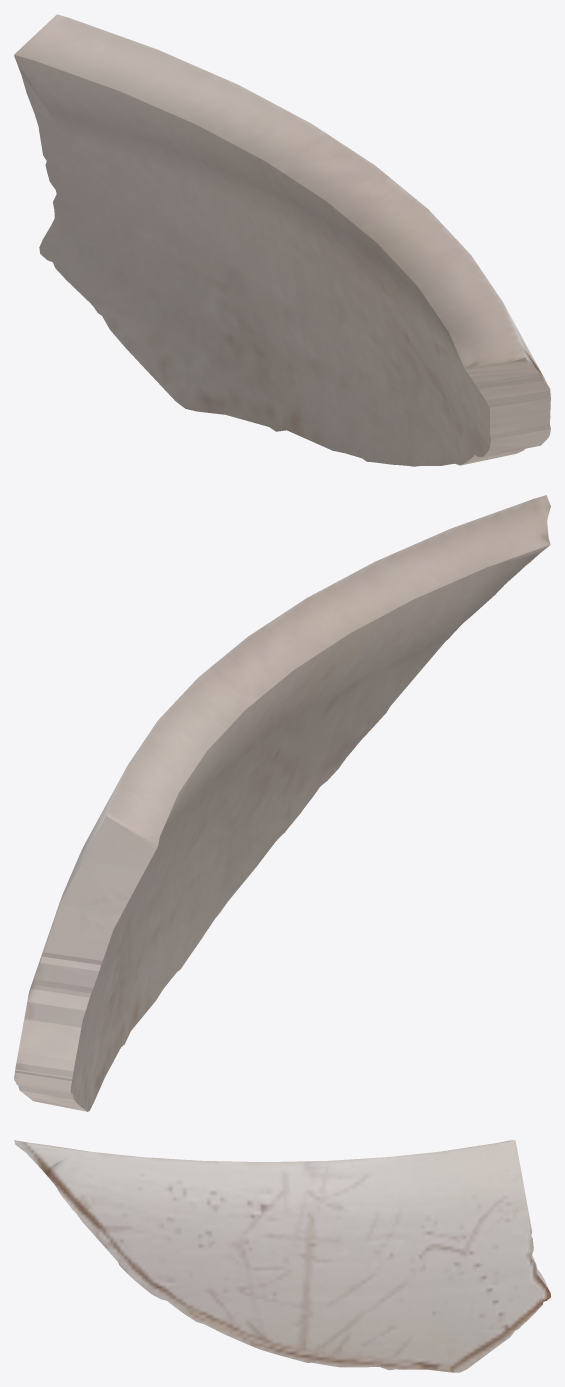
Rendered from vazo_2.glb.
3 views of the same model, one above another, from view 1: azimuth 30°, elevation 25°; view 2: azimuth 150°, elevation 25°; view 3: azimuth 270°, elevation 25° (orthographic). The views are drawn at different scales.
Parts seen in each view (by area): view 1: KOMMATAKI.001; view 2: KOMMATAKI.001; view 3: KOMMATAKI.001.
Boxes of the visible parts, bbox=[...] form: KOMMATAKI.001: bbox=[14, 14, 550, 466]; KOMMATAKI.001: bbox=[14, 495, 550, 1111]; KOMMATAKI.001: bbox=[14, 1140, 550, 1372].
Size of the model in its own units: 0.1476 by 0.2377 by 0.5805.
1 material, 1 textured.
